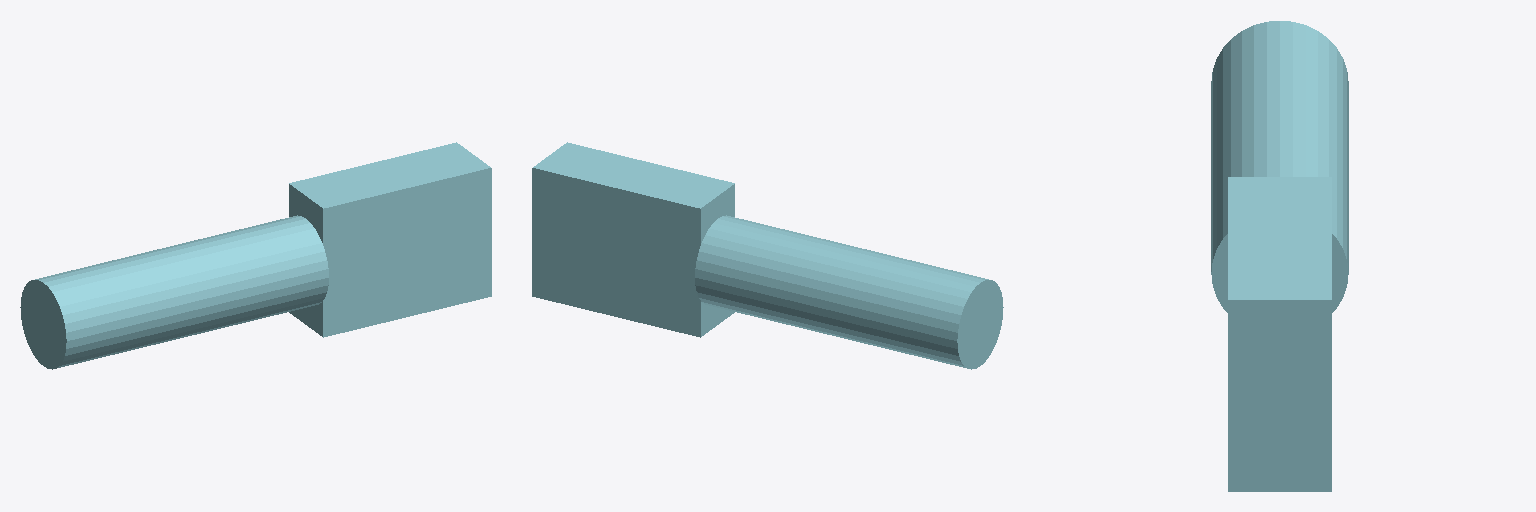
The robot description file, URDF, robot "cylinder_brush_v9001":
<?xml version="1.0"?>
<robot name="cylinder_brush_v9001">

  <link name="cylinder_brush_v9001">
    <!-- Handle -->
    <visual>
      <origin xyz="0 0 0" rpy="0 1.5707963267948966 0"/>
      <geometry>
        <cylinder length="0.15877749812763034" radius="0.024161824713671756"/>
      </geometry>
      <material name="material">
        <color rgba="0.639 0.847 0.882 1.0"/>
      </material>
    </visual>
    <collision>
      <origin xyz="0 0 0" rpy="0 1.5707963267948966 0"/>
      <geometry>
        <cylinder length="0.15877749812763034" radius="0.024161824713671756"/>
      </geometry>
    </collision>

    <!-- Head -->
    <visual>
      <origin xyz="0.13023906258982357 0 0" rpy="0 0 0"/>
      <geometry>
        <box size="0.10170062705201678 0.036343063422599575 0.07450097285588478"/>
      </geometry>
      <material name="material">
        <color rgba="0.639 0.847 0.882 1.0"/>
      </material>
    </visual>
    <collision>
      <origin xyz="0.13023906258982357 0 0" rpy="0 0 0"/>
      <geometry>
        <box size="0.10170062705201678 0.036343063422599575 0.07450097285588478"/>
      </geometry>
    </collision>

    <inertial>
      <density value="400.0"/>
    </inertial>
  </link>

</robot>

--- What the picture shows (computed from the rendered views, not written in the file) ---
Views: 3 orthographic renders of the robot side by side, from view 1: azimuth 30°, elevation 25°; view 2: azimuth 150°, elevation 25°; view 3: azimuth 270°, elevation 25°.
Model cylinder_brush_v9001 with 1 links and 0 joints (none), rooted at cylinder_brush_v9001, posed all joints at 0.
Visible links, largest first — view 1: cylinder_brush_v9001; view 2: cylinder_brush_v9001; view 3: cylinder_brush_v9001.
Boxes of the visible links, <box> form: cylinder_brush_v9001: <box>20,142,491,369</box>; cylinder_brush_v9001: <box>532,142,1003,369</box>; cylinder_brush_v9001: <box>1211,21,1348,491</box>.
Bounding box of the posed robot: 0.2605 × 0.0483 × 0.0745 m (x, y, z).
Geometry: primitives only (box / cylinder / sphere), no mesh files.
